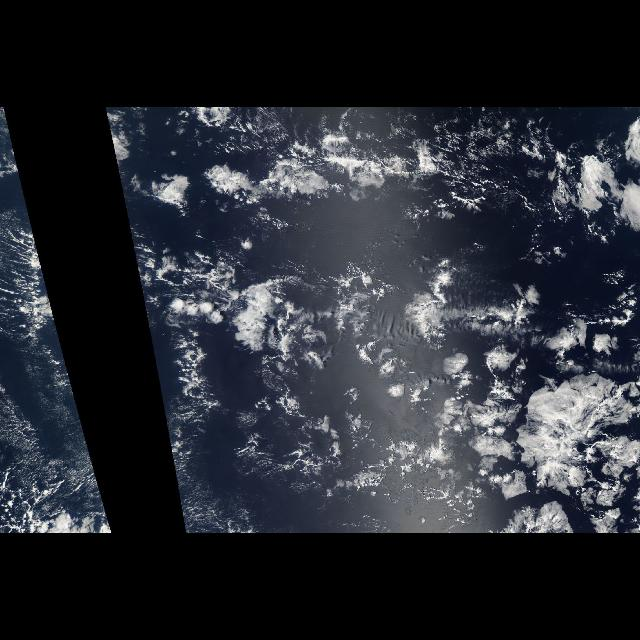Flower: (418, 342, 600, 530)
Sugar: (2, 328, 112, 520), (148, 328, 220, 520)
